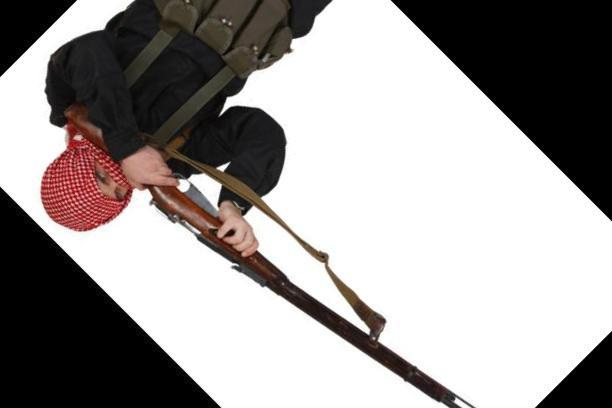larga: (64, 98, 476, 408)
